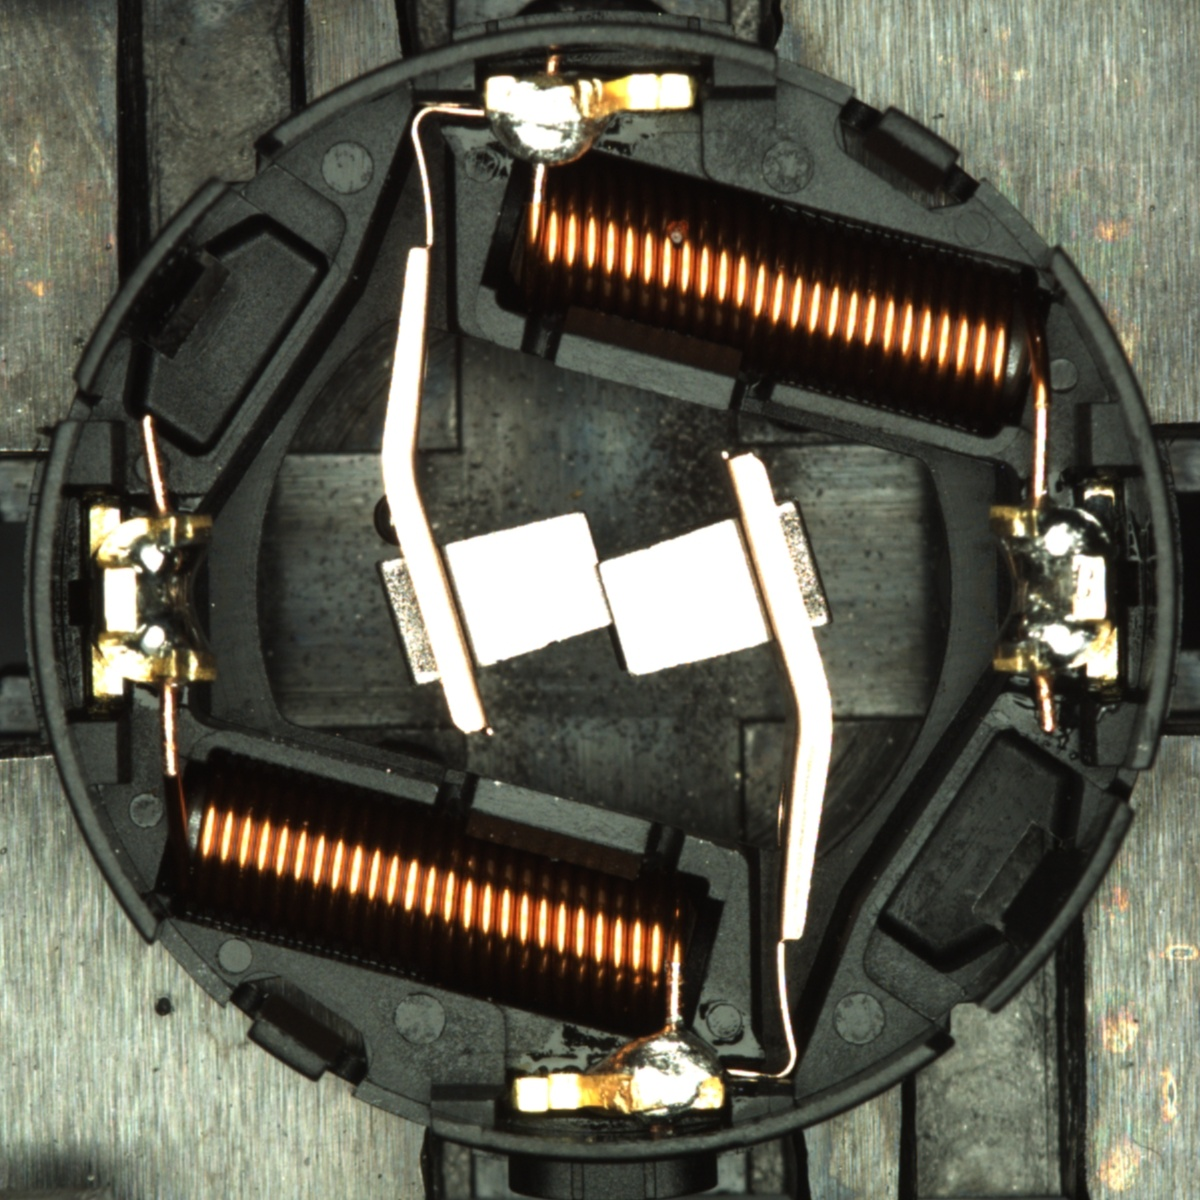1: (716, 929, 946, 1154), (258, 32, 488, 256)
2: (258, 929, 488, 1154), (716, 32, 946, 256)
3: (29, 256, 258, 480), (946, 704, 1175, 929)
4: (258, 256, 488, 480), (716, 704, 946, 929)
5: (488, 816, 716, 1042), (488, 144, 716, 368)
6: (716, 256, 946, 480), (258, 704, 488, 929)
7: (29, 704, 258, 929), (946, 256, 1175, 480)
cacbon: (399, 500, 805, 685)
chau_dien: (984, 486, 1123, 686), (84, 498, 222, 699)
hat_chi: (371, 495, 401, 547)
tay_choi: (482, 73, 700, 175), (512, 1023, 724, 1119)
thanh_de: (955, 787, 1141, 1029), (60, 168, 246, 405)
